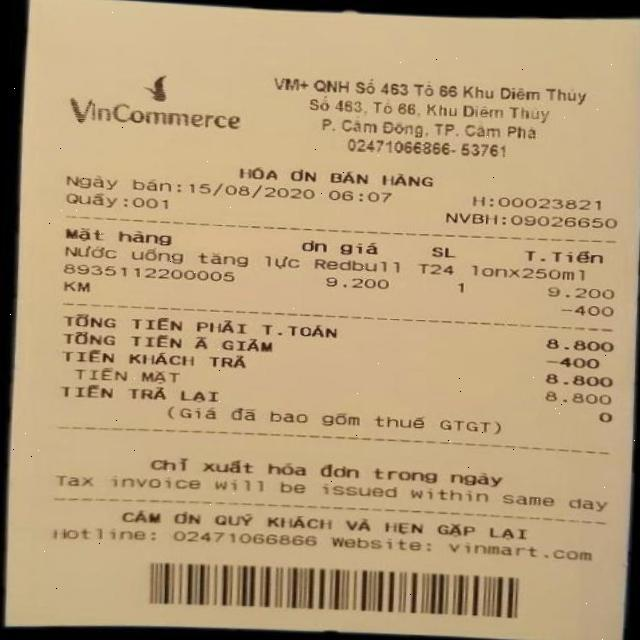Date: (186, 176, 320, 205)
Store_Name: (55, 62, 252, 142)
amount_number: (543, 332, 620, 356)
label_total: (59, 311, 342, 342)
